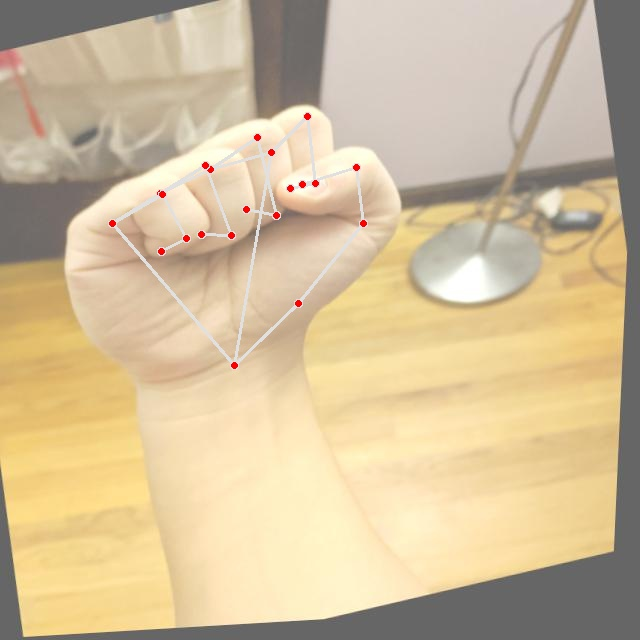S: (29, 76, 437, 410)
